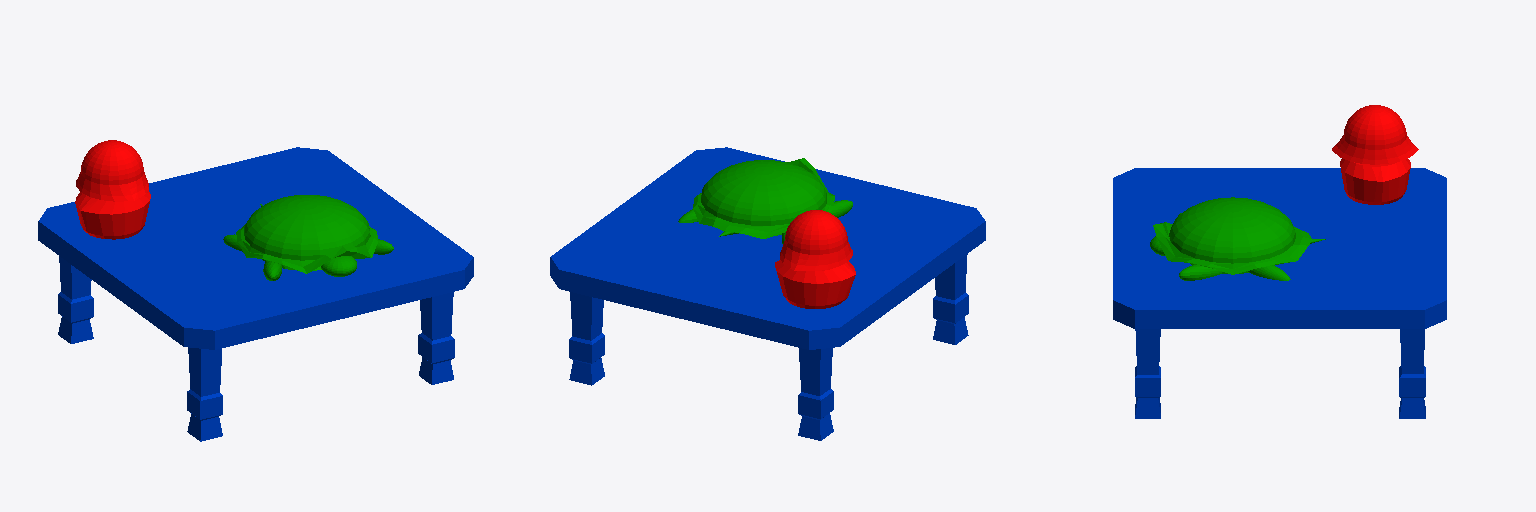
File: desklampturtleobject.obj
The picture shows the model from 3 angles: view 1: azimuth 30°, elevation 25°; view 2: azimuth 150°, elevation 25°; view 3: azimuth 270°, elevation 25°; orthographic projection.
Parts seen in each view (by area): view 1: tabletop, tabletop leg1 leg3 leg2 leg, tabletop shell, lampshade tabletop, lampshade tabletop lamppost, tabletop shell leg2 leg3 leg1 leg4, tabletop head shell; view 2: tabletop, tabletop leg1 leg3 leg2 leg, tabletop shell, lampshade tabletop, lampshade tabletop lamppost; view 3: tabletop, tabletop shell, tabletop leg1 leg3 leg2 leg, lampshade tabletop, lampshade tabletop lamppost, tabletop shell leg2 leg3 leg1 leg4.
Boxes of the visible parts, x1,y1,x2,y2 form: tabletop: [38, 147, 473, 349]; tabletop leg1 leg3 leg2 leg: [58, 256, 454, 441]; tabletop shell: [236, 195, 377, 273]; lampshade tabletop: [76, 140, 148, 201]; lampshade tabletop lamppost: [75, 190, 150, 239]; tabletop shell leg2 leg3 leg1 leg4: [223, 234, 393, 280]; tabletop head shell: [321, 256, 356, 276]; tabletop: [550, 147, 985, 349]; tabletop leg1 leg3 leg2 leg: [569, 254, 968, 440]; tabletop shell: [693, 158, 834, 238]; lampshade tabletop: [780, 210, 852, 270]; lampshade tabletop lamppost: [775, 260, 855, 308]; tabletop: [1113, 168, 1446, 328]; tabletop shell: [1153, 197, 1312, 274]; tabletop leg1 leg3 leg2 leg: [1135, 329, 1425, 418]; lampshade tabletop: [1332, 105, 1418, 164]; lampshade tabletop lamppost: [1340, 158, 1410, 204]; tabletop shell leg2 leg3 leg1 leg4: [1178, 213, 1290, 280].
Bounding box in the file's own units: 6.13 × 4.1 × 6.13.